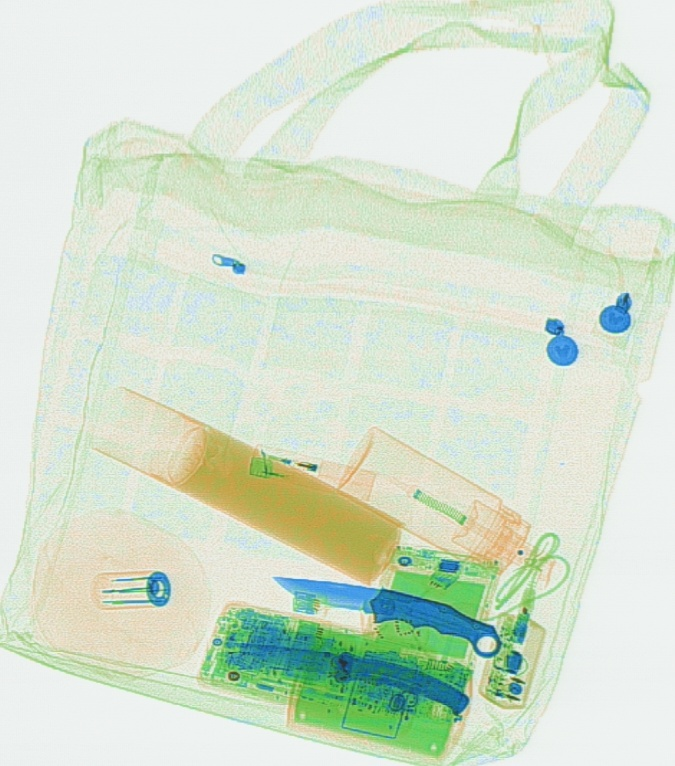knife: (270, 574, 499, 658), (229, 641, 468, 714)
lighter: (244, 439, 376, 498)
